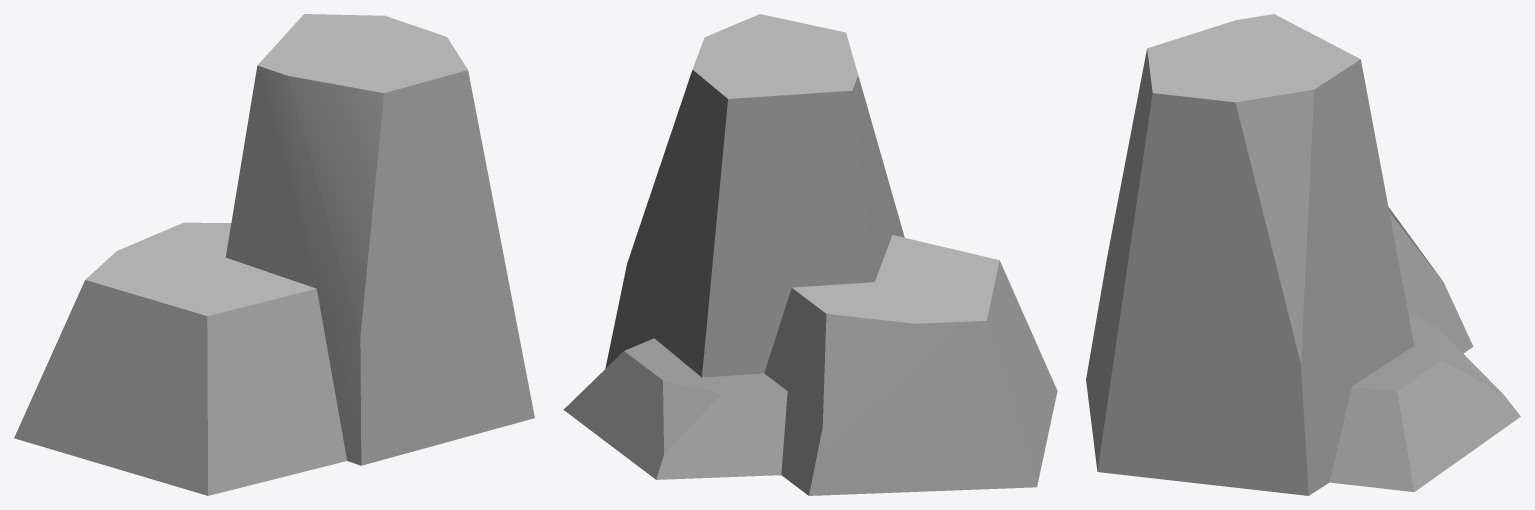
The model's file is rockA3.fbx.
3 renders of one model, left to right at view 1: azimuth 30°, elevation 25°; view 2: azimuth 150°, elevation 25°; view 3: azimuth 270°, elevation 25°, orthographic. The views are drawn at different scales.
Parts seen in each view (by area): view 1: rockA3; view 2: rockA3; view 3: rockA3.
Part boxes in pixels (x1,y1,x2,y2): rockA3: [14, 14, 534, 495]; rockA3: [563, 14, 1057, 495]; rockA3: [1086, 14, 1520, 495].
Size of the model in its own units: 114 by 80.77 by 88.93.
